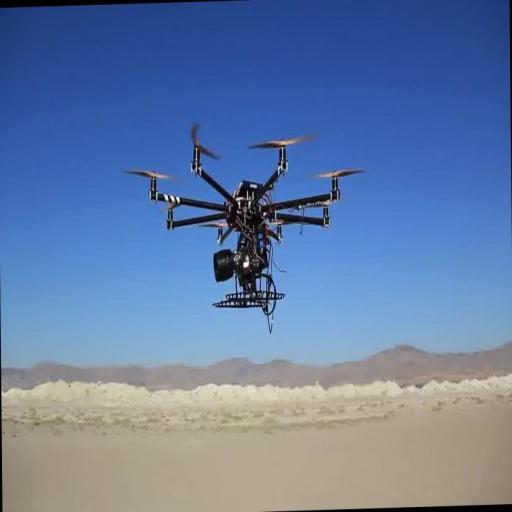drone: (125, 122, 364, 311)
